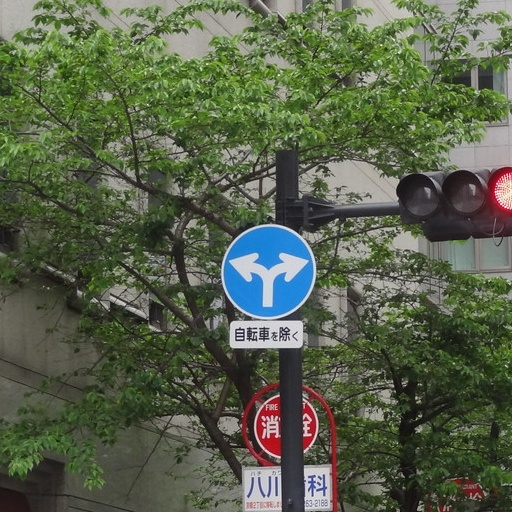Traffic_Signal_Red: (401, 161, 510, 228)
